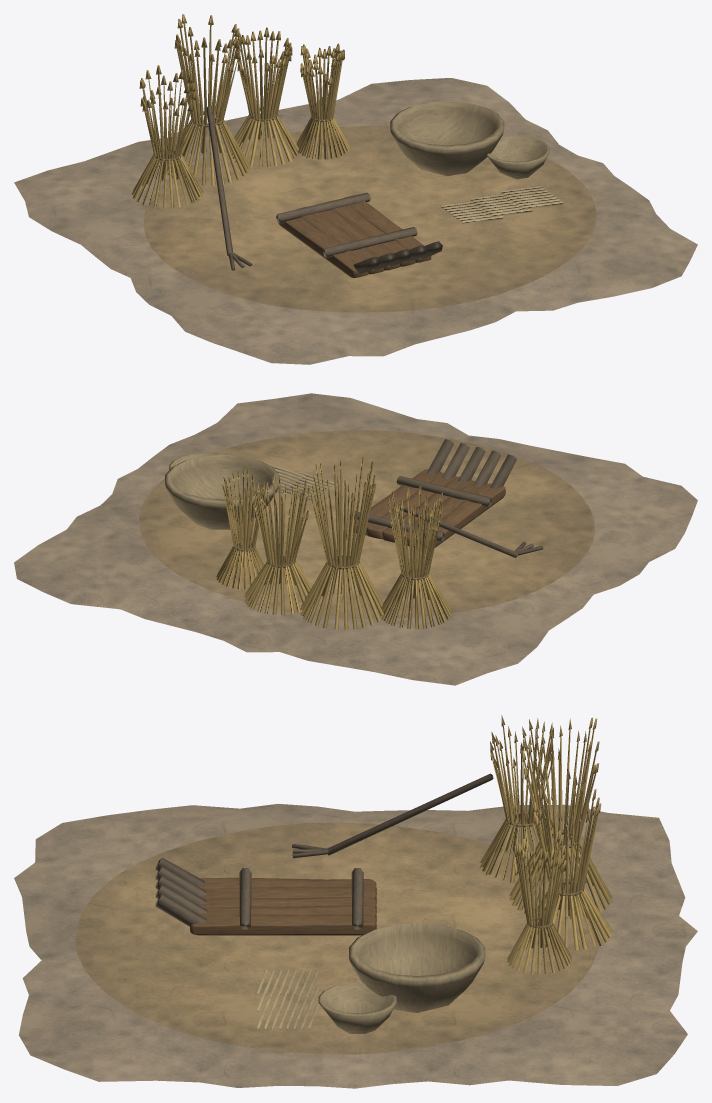
The model's file is threshing-floor.glb.
3 views of the same model, one above another, from view 1: azimuth 30°, elevation 25°; view 2: azimuth 150°, elevation 25°; view 3: azimuth 270°, elevation 25° (orthographic). The views are drawn at different scales.
Visible parts, largest first — view 1: threshing-floor; view 2: threshing-floor; view 3: threshing-floor.
Part boxes in pixels (left/top/right/bottom): threshing-floor: left=14, top=14, right=697, bottom=364; threshing-floor: left=14, top=393, right=697, bottom=685; threshing-floor: left=14, top=715, right=697, bottom=1088.
Bounding box in the file's own units: 4.97 × 1.51 × 5.06.
3 materials, 3 textured.
